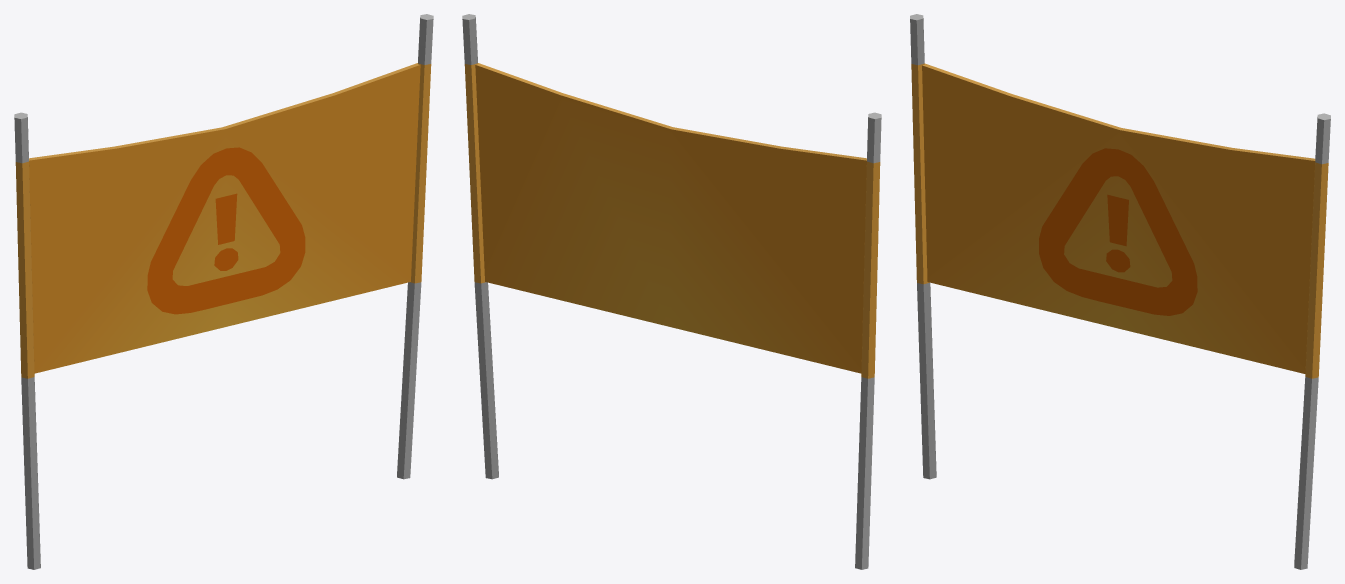
Rendered from boundaryFence.glb.
The picture shows the model from 3 angles, left to right: view 1: azimuth 30°, elevation 25°; view 2: azimuth 150°, elevation 25°; view 3: azimuth 330°, elevation 25°; orthographic projection.
Parts seen in each view (by area): view 1: boundaryFence; view 2: boundaryFence; view 3: boundaryFence.
Part boxes in pixels (x1=…): boundaryFence: x1=14, y1=14, x2=433, y2=569; boundaryFence: x1=462, y1=14, x2=881, y2=569; boundaryFence: x1=910, y1=14, x2=1330, y2=569.
Size of the model in its own units: 1.94 by 2.01 by 0.0533.
